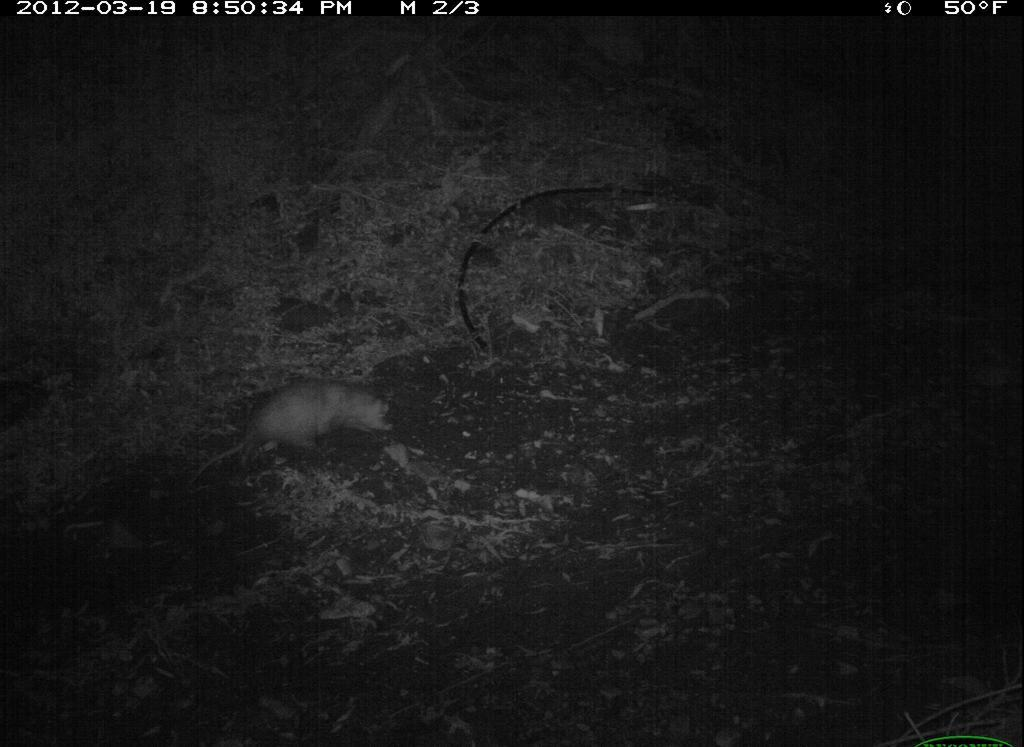opossum: (182, 370, 406, 492)
